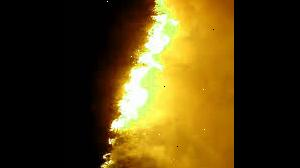fire: (94, 0, 190, 168)
